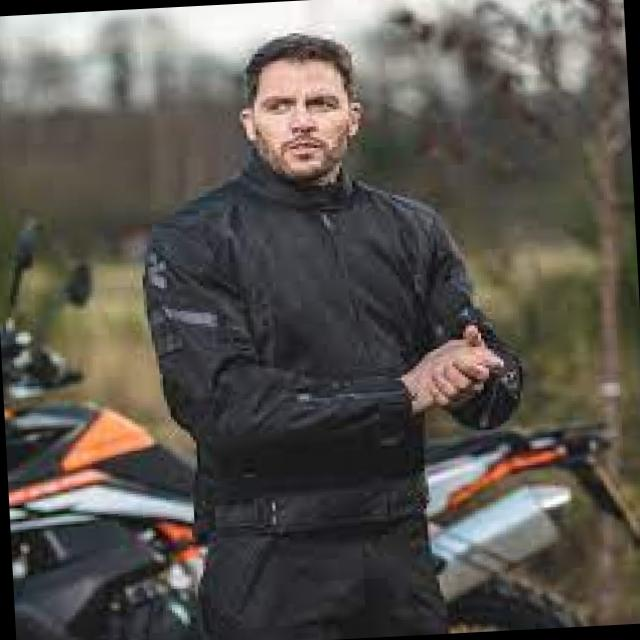Jacket: (104, 160, 554, 576)
